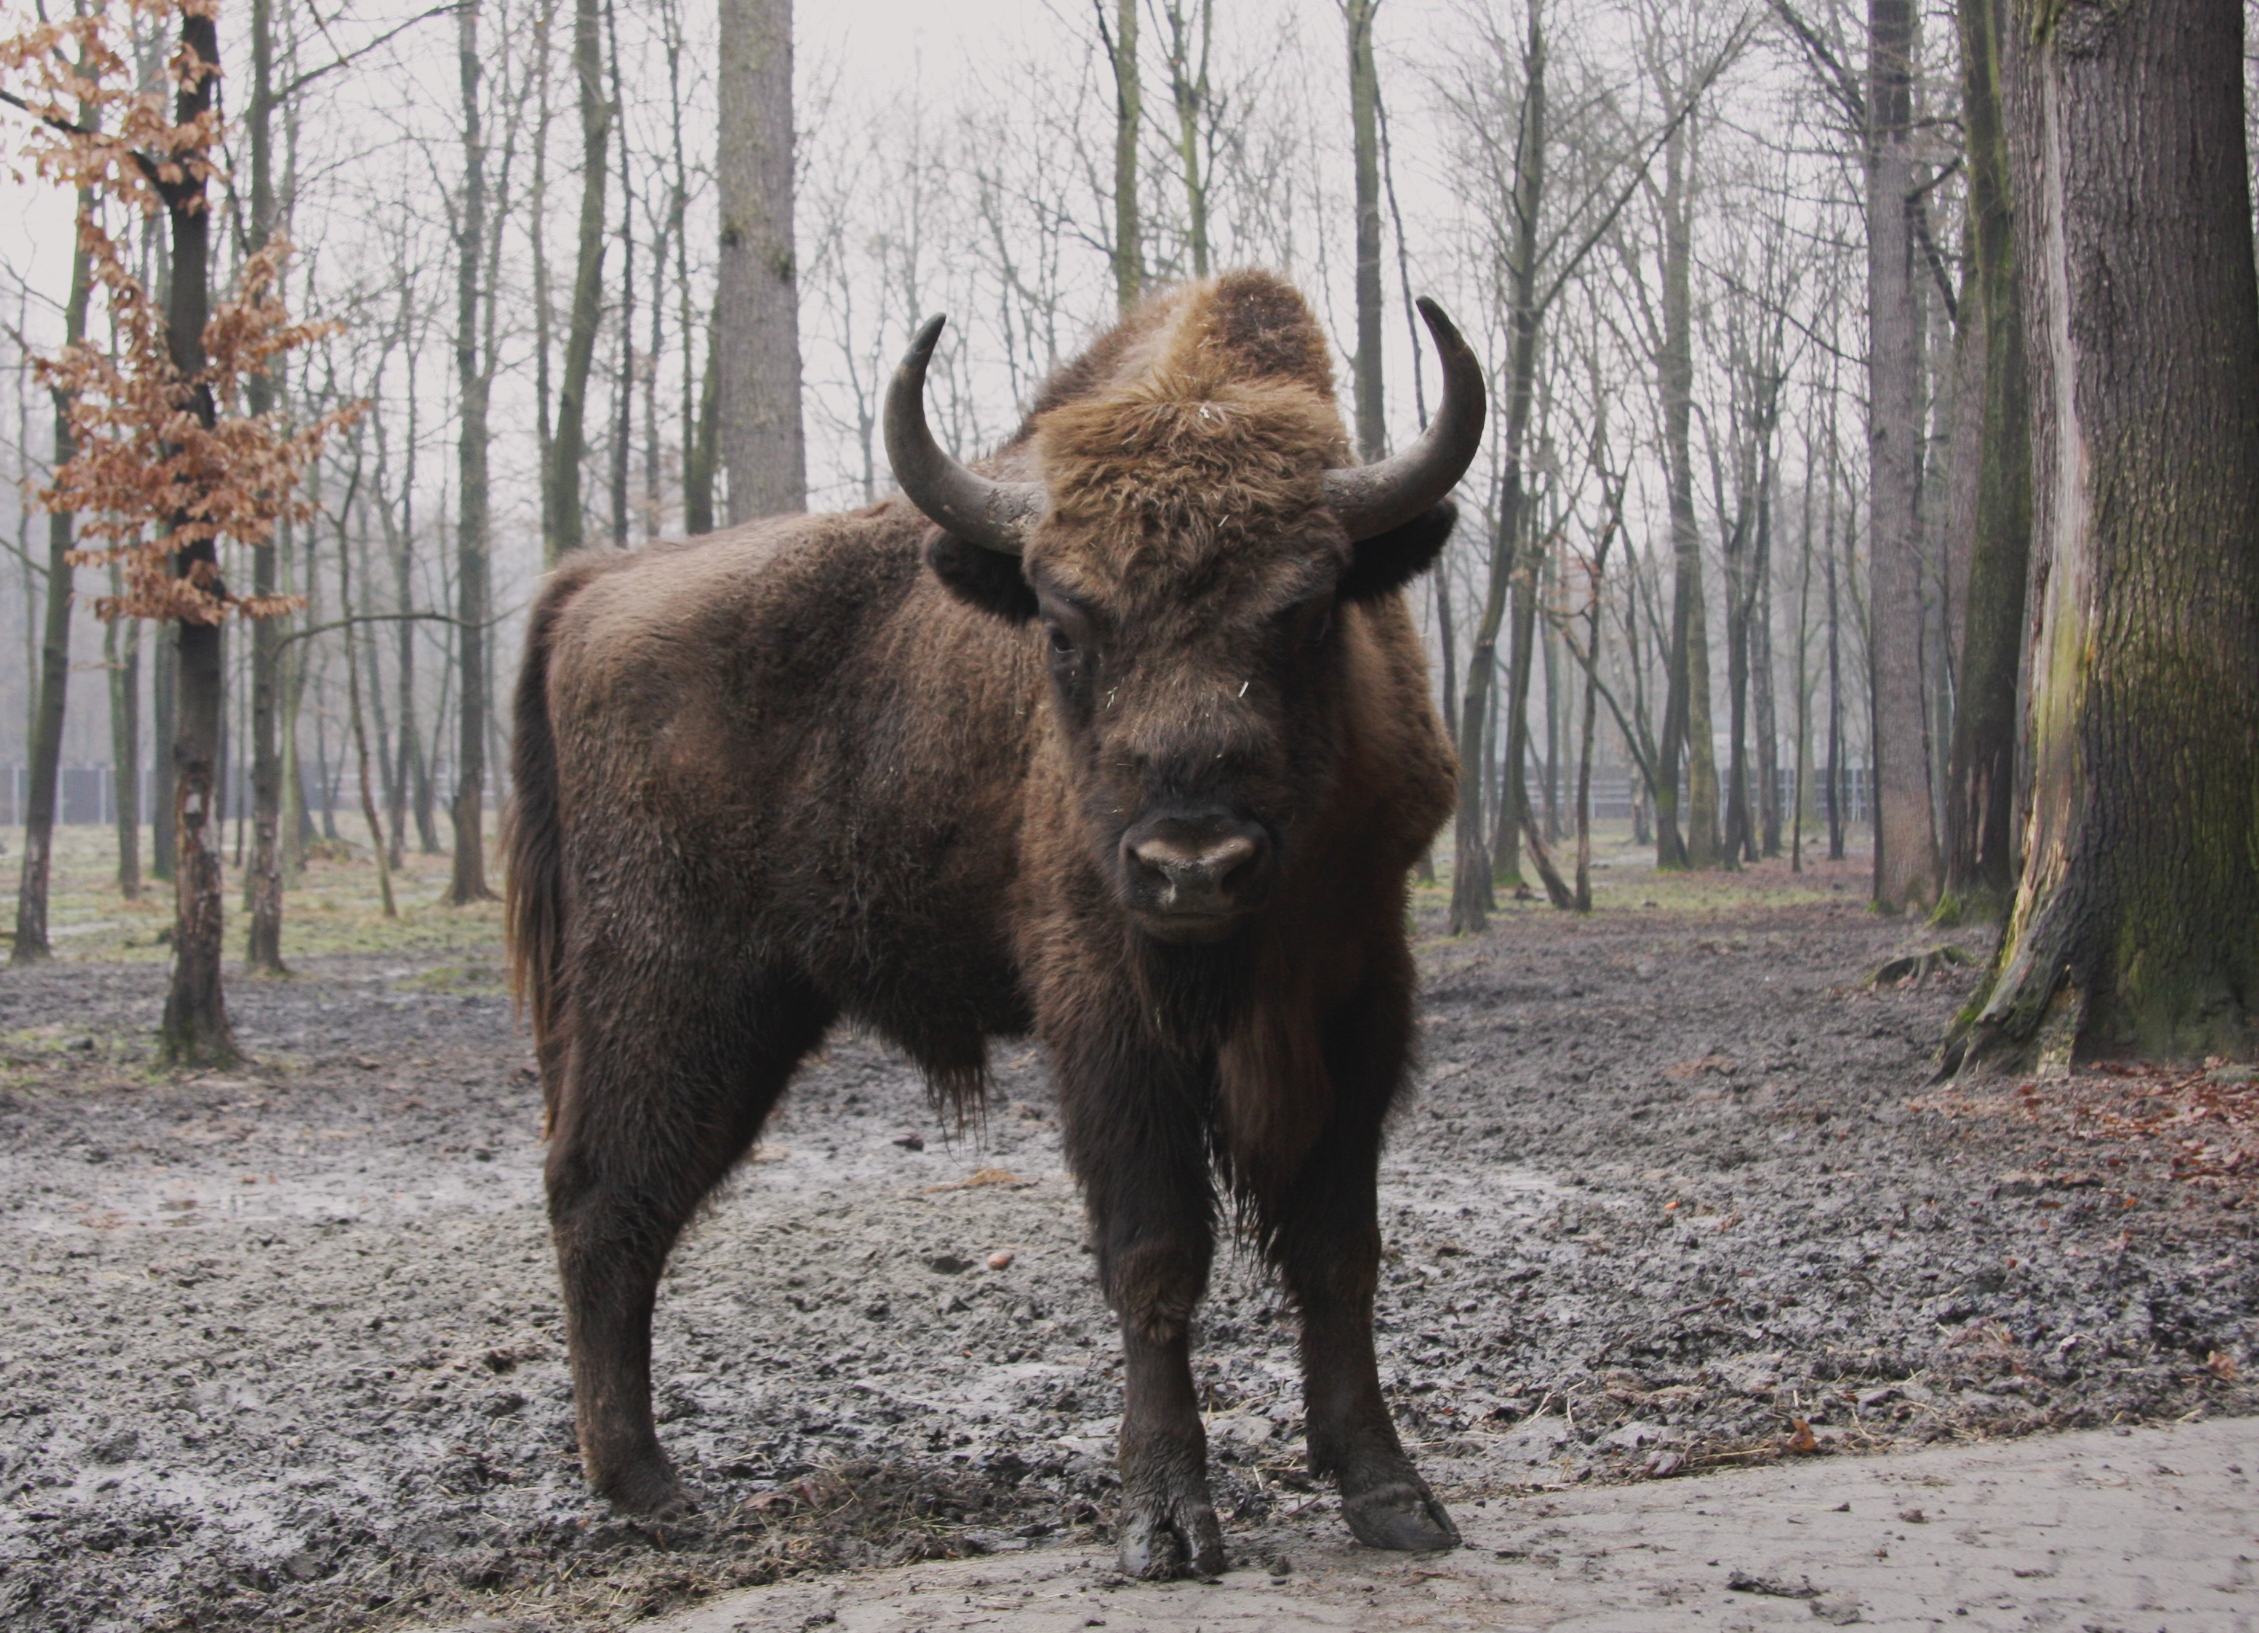zubr: (291, 214, 1661, 1584)
